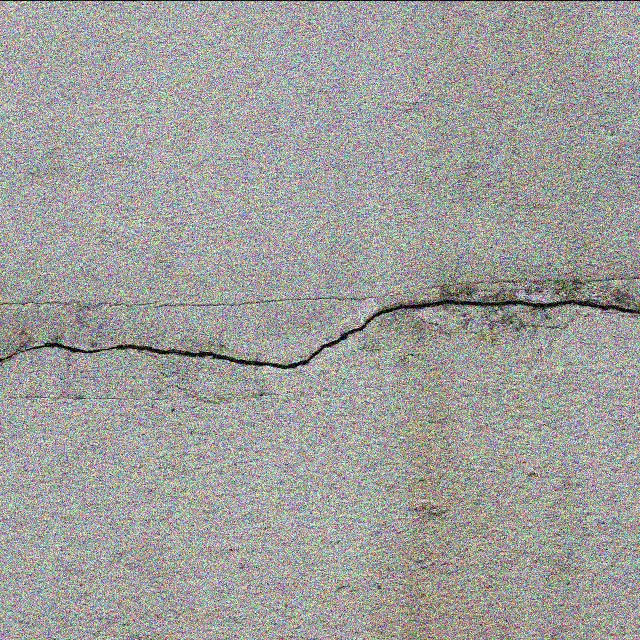SurfaceCrack: (0, 259, 639, 413)
